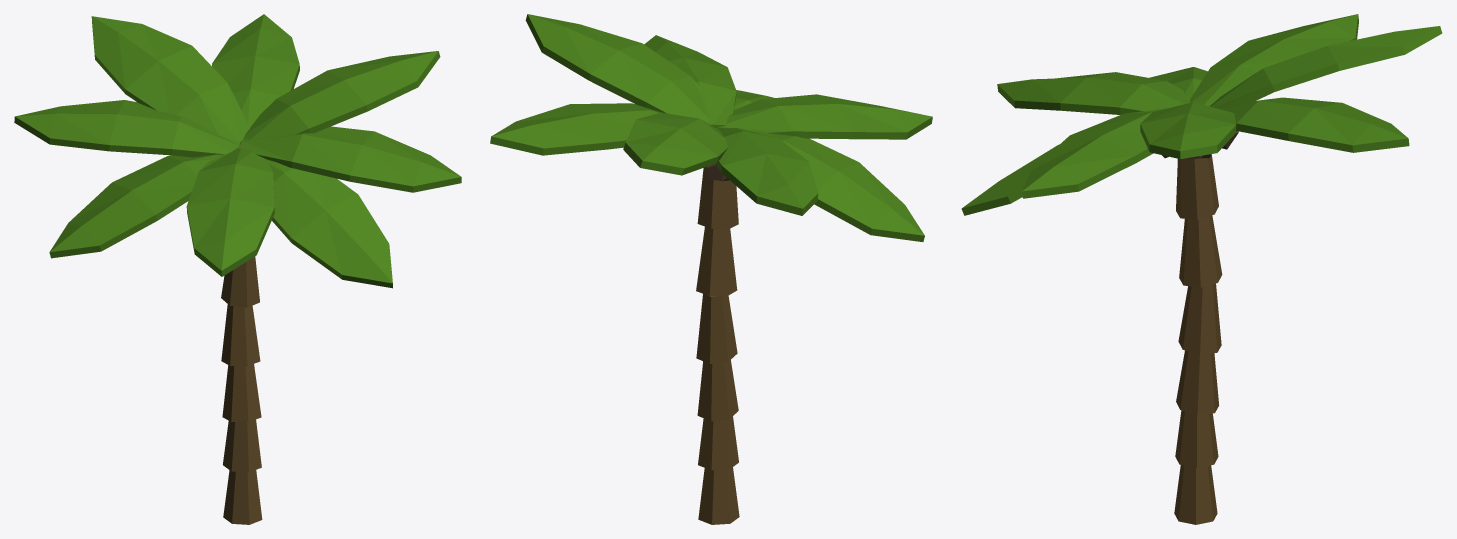
The model's file is Palme2.fbx.
3 renders of one model, left to right at view 1: azimuth 30°, elevation 25°; view 2: azimuth 150°, elevation 25°; view 3: azimuth 270°, elevation 25°, orthographic. The views are drawn at different scales.
Visible parts, largest first — view 1: Blatt_1, Stamm_1; view 2: Blatt_1, Stamm_1; view 3: Blatt_1, Stamm_1.
Part boxes in pixels (x1,y1,x2,y2): Blatt_1: [14, 14, 461, 288]; Stamm_1: [221, 143, 262, 524]; Blatt_1: [490, 14, 932, 241]; Stamm_1: [696, 127, 739, 524]; Blatt_1: [961, 14, 1442, 215]; Stamm_1: [1174, 154, 1222, 524].
Bounding box in the file's own units: 1452 × 1546 × 1439.
